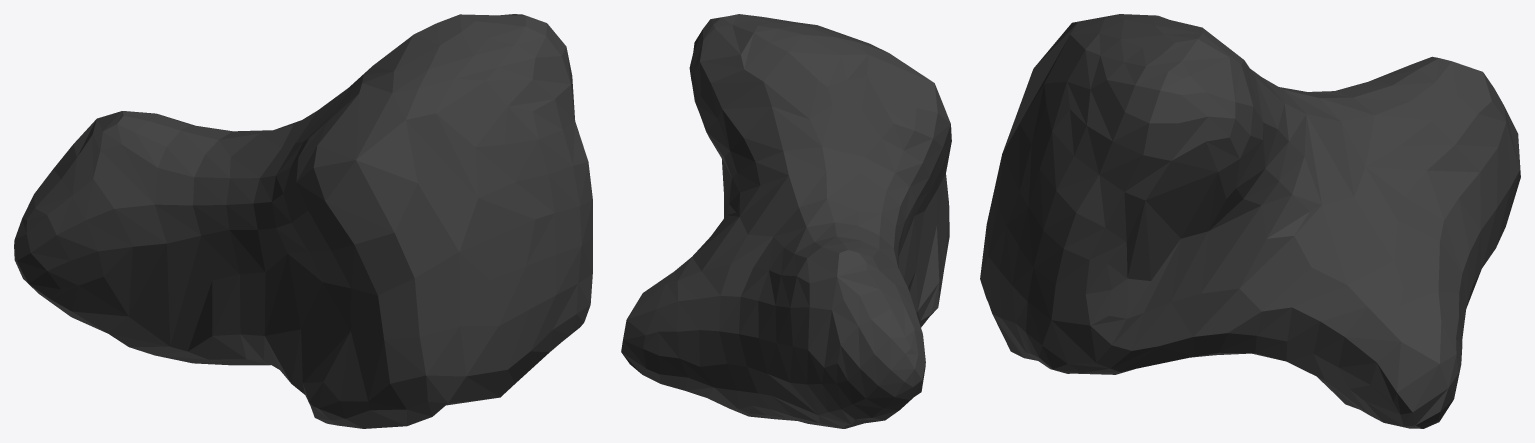
The model's file is C_intermediate_bone_C_intermediate_bone.glb.
The picture shows the model from 3 angles, left to right: view 1: azimuth 30°, elevation 25°; view 2: azimuth 150°, elevation 25°; view 3: azimuth 270°, elevation 25°; orthographic projection. The views are drawn at different scales.
Parts seen in each view (by area): view 1: C_intermediate_bone_C_intermediate_bone; view 2: C_intermediate_bone_C_intermediate_bone; view 3: C_intermediate_bone_C_intermediate_bone.
Part boxes in pixels (x1,y1,x2,y2): C_intermediate_bone_C_intermediate_bone: (14, 14, 592, 428); C_intermediate_bone_C_intermediate_bone: (621, 14, 951, 428); C_intermediate_bone_C_intermediate_bone: (980, 14, 1520, 428).
Bounding box in the file's own units: 0.0752 × 0.0661 × 0.0787.
Materials: 1 (1 with a texture image).
